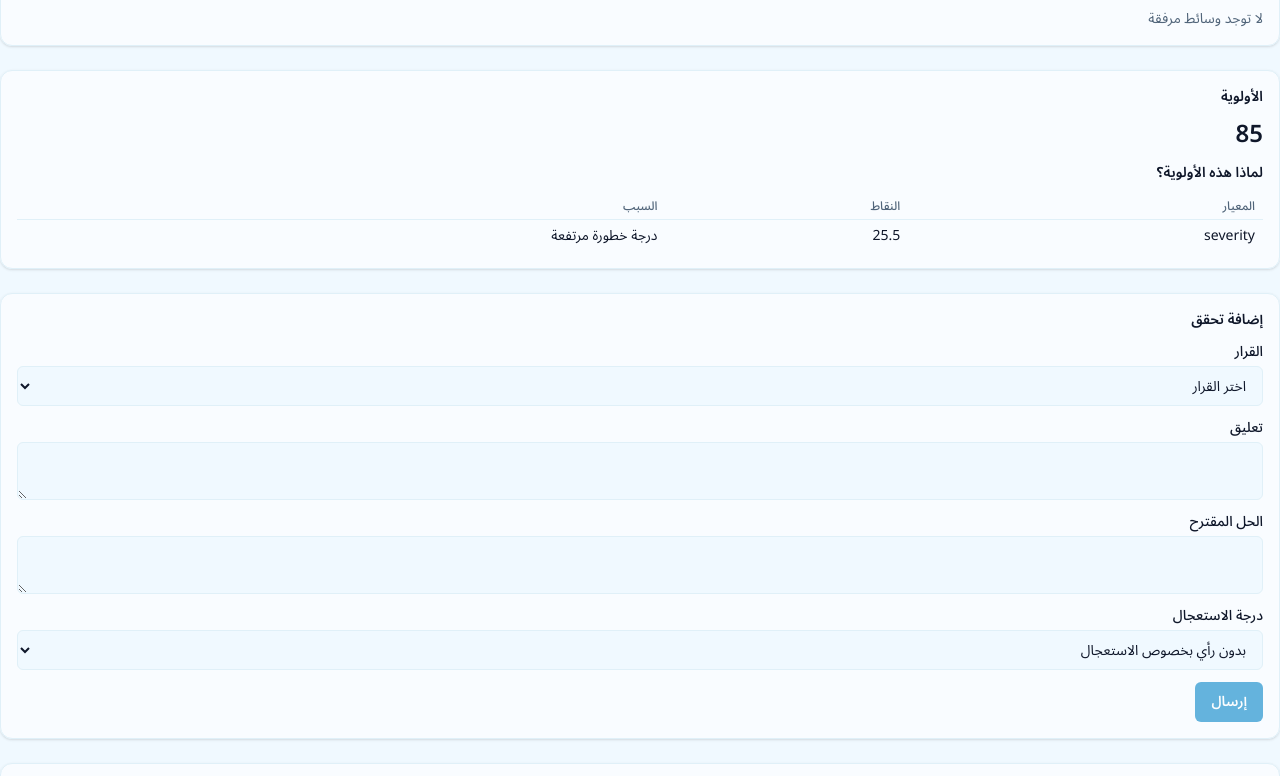
ReportDetailPage — expert validation form › submits a decision and refetches the report, picking up the server-assigned new status
The width and height of the screenshot is (1280, 776).
(page scrolled)
Expected: the heading "إضافة تحقق" is shown, [1191,305,1263,334]
Select "تم التحقق" in the dropdown labelled "القرار" at (640, 386), box [17,366,1263,406]
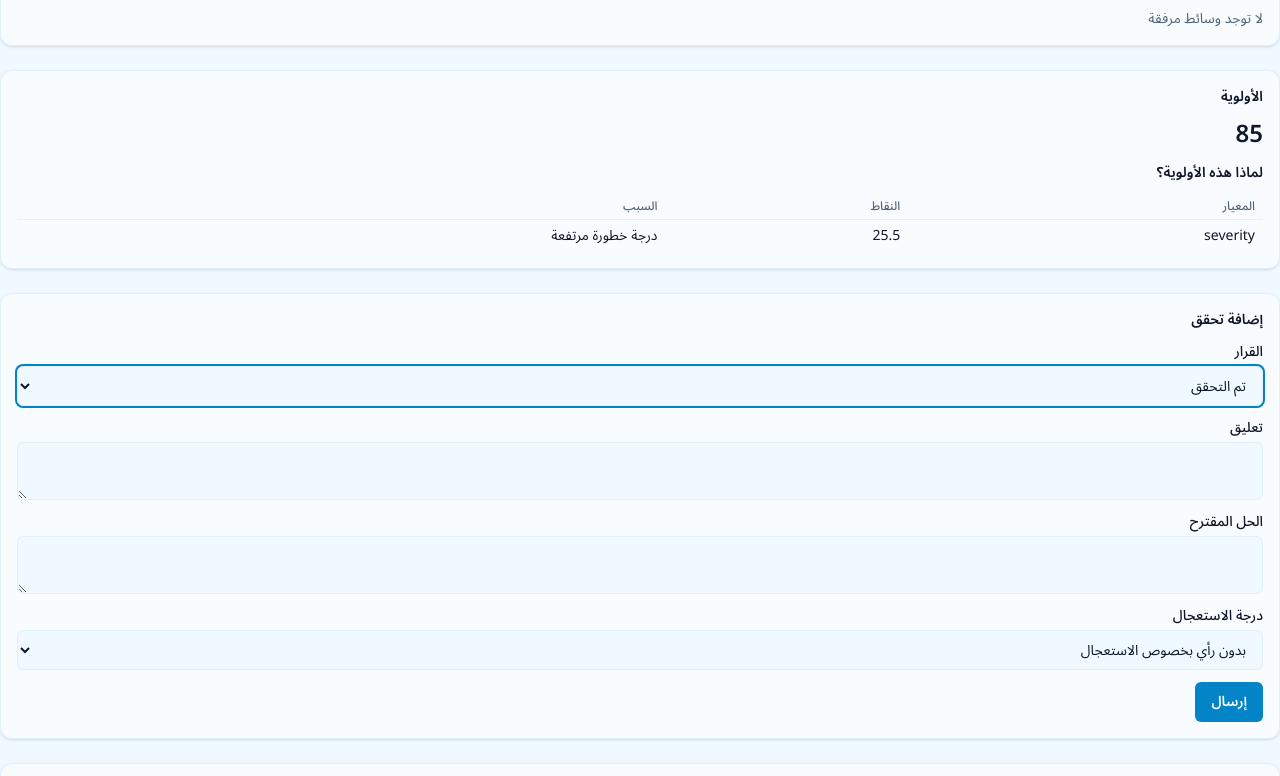
Click the button "إرسال" at (1229, 702), box [1196,682,1263,722]
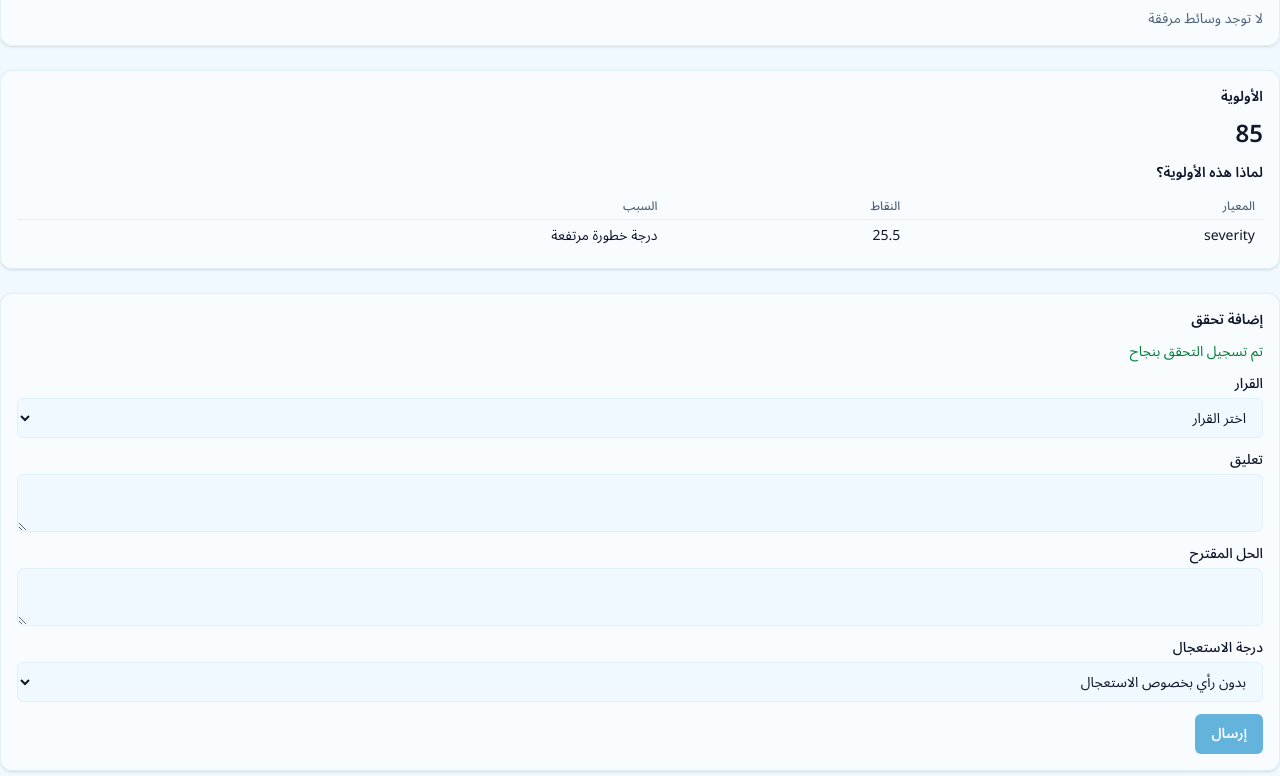
Result: the text "تم تسجيل التحقق بنجاح" is shown at [1130,337,1263,366]
